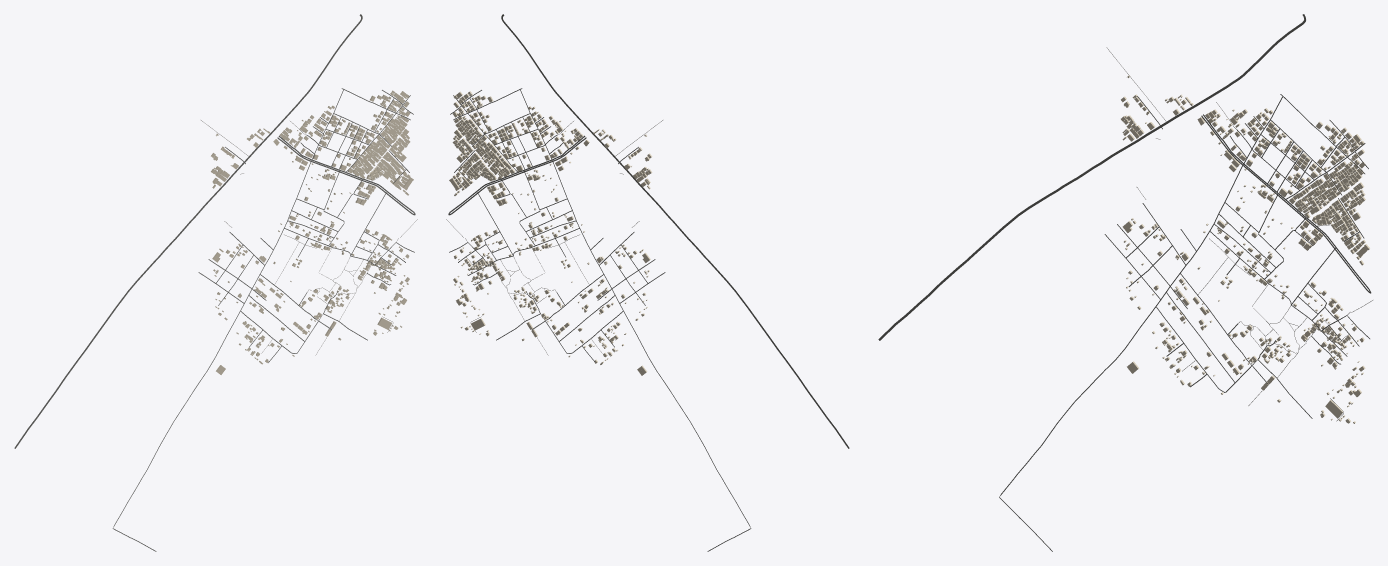
Rendered from historic-palestine-02_20_3439_3143.glb.
The picture shows the model from 3 angles, left to right: view 1: azimuth 30°, elevation 25°; view 2: azimuth 150°, elevation 25°; view 3: azimuth 330°, elevation 25°; orthographic projection. The views are drawn at different scales.
Parts seen in each view (by area): view 1: Road .067, Road .003; view 2: Road .067, Road .003; view 3: Road .067, Road .003.
Part boxes in pixels (left/top/right/bottom): Road .067: left=14, top=14, right=362, bottom=448; Road .003: left=112, top=89, right=343, bottom=551; Road .067: left=501, top=14, right=849, bottom=448; Road .003: left=520, top=89, right=751, bottom=551; Road .067: left=878, top=14, right=1305, bottom=340; Road .003: left=999, top=96, right=1282, bottom=551.
Size of the model in its own units: 1961 by 2266 by 10.89.
